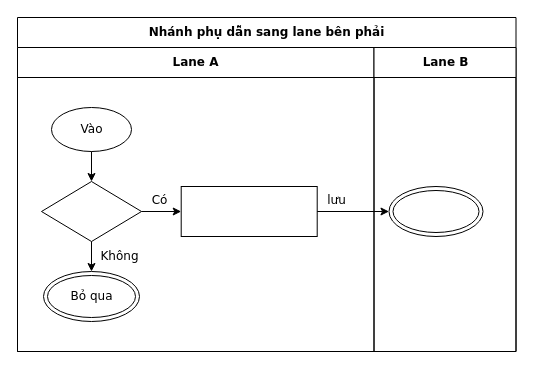
The diagram is 534 pixels wide and 369 high, and some of its shapes have lost their labels. The centre of each missing label's shape, as x and y in pixels:
"Chuẩn bị bản ghi" belongs at point (248, 211).
"Cần lưu?" belongs at point (91, 211).
"Đã lưu" belongs at point (435, 211).
